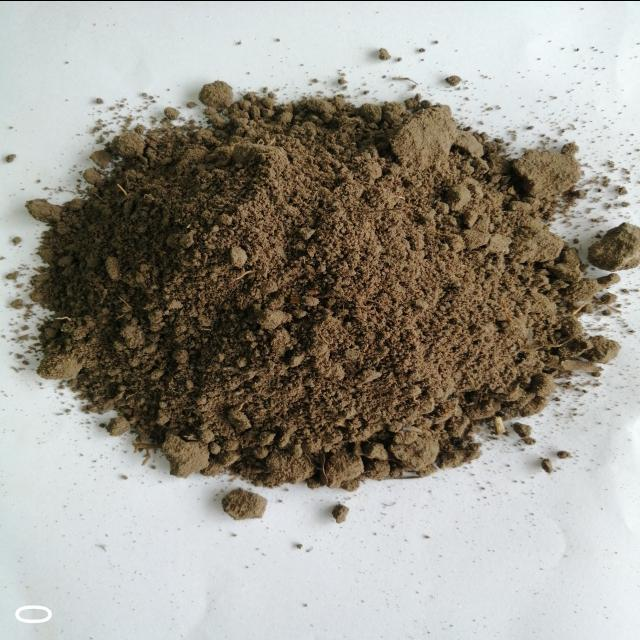soil: (157, 187, 517, 396)
